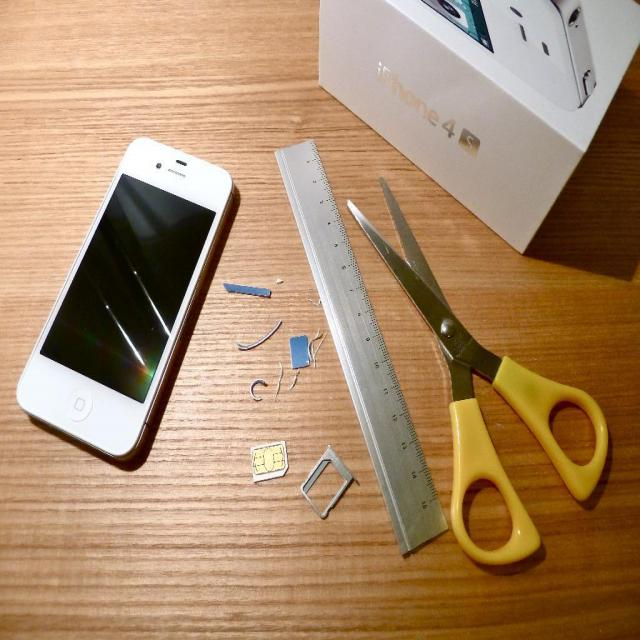scissor: (342, 166, 612, 567)
